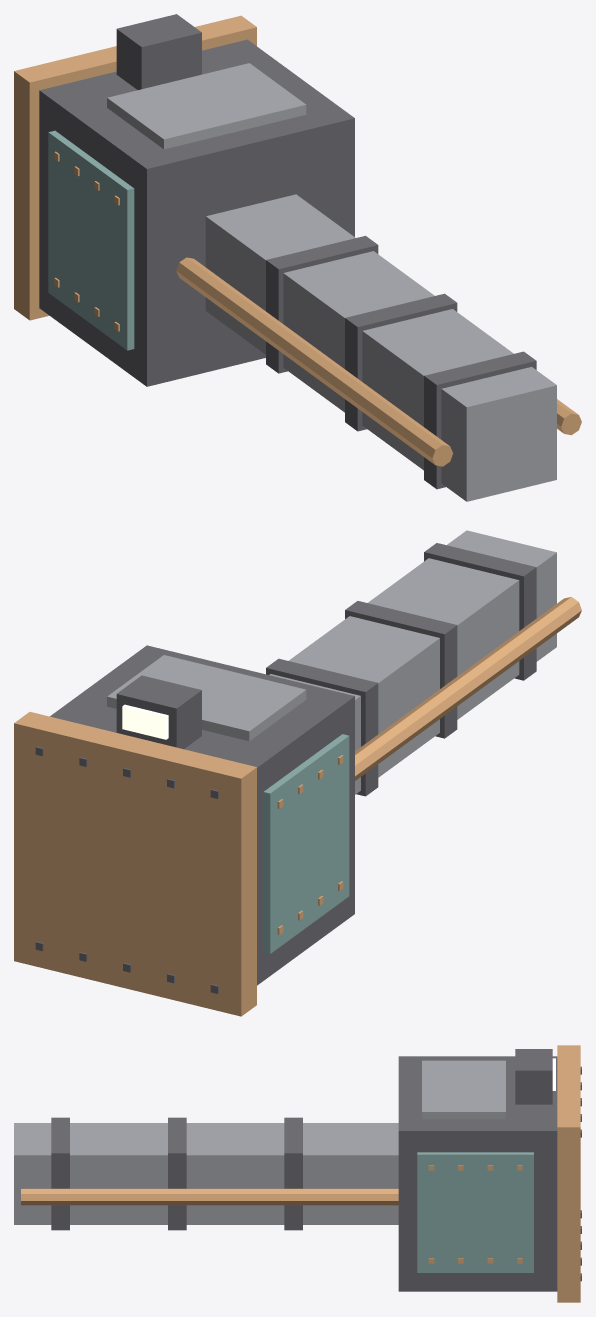
File: drill_slider.glb
The picture shows the model from 3 angles, top to bottom: view 1: azimuth 30°, elevation 25°; view 2: azimuth 150°, elevation 25°; view 3: azimuth 270°, elevation 25°; orthographic projection. The views are drawn at different scales.
Visible parts, largest first — view 1: DrillSlider; view 2: DrillSlider; view 3: DrillSlider.
Boxes of the visible parts, x1=… form: DrillSlider: x1=14, y1=14, x2=581, y2=501; DrillSlider: x1=14, y1=530, x2=581, y2=1016; DrillSlider: x1=14, y1=1045, x2=581, y2=1302.
Size of the model in its own units: 0.83 by 0.955 by 2.44.
